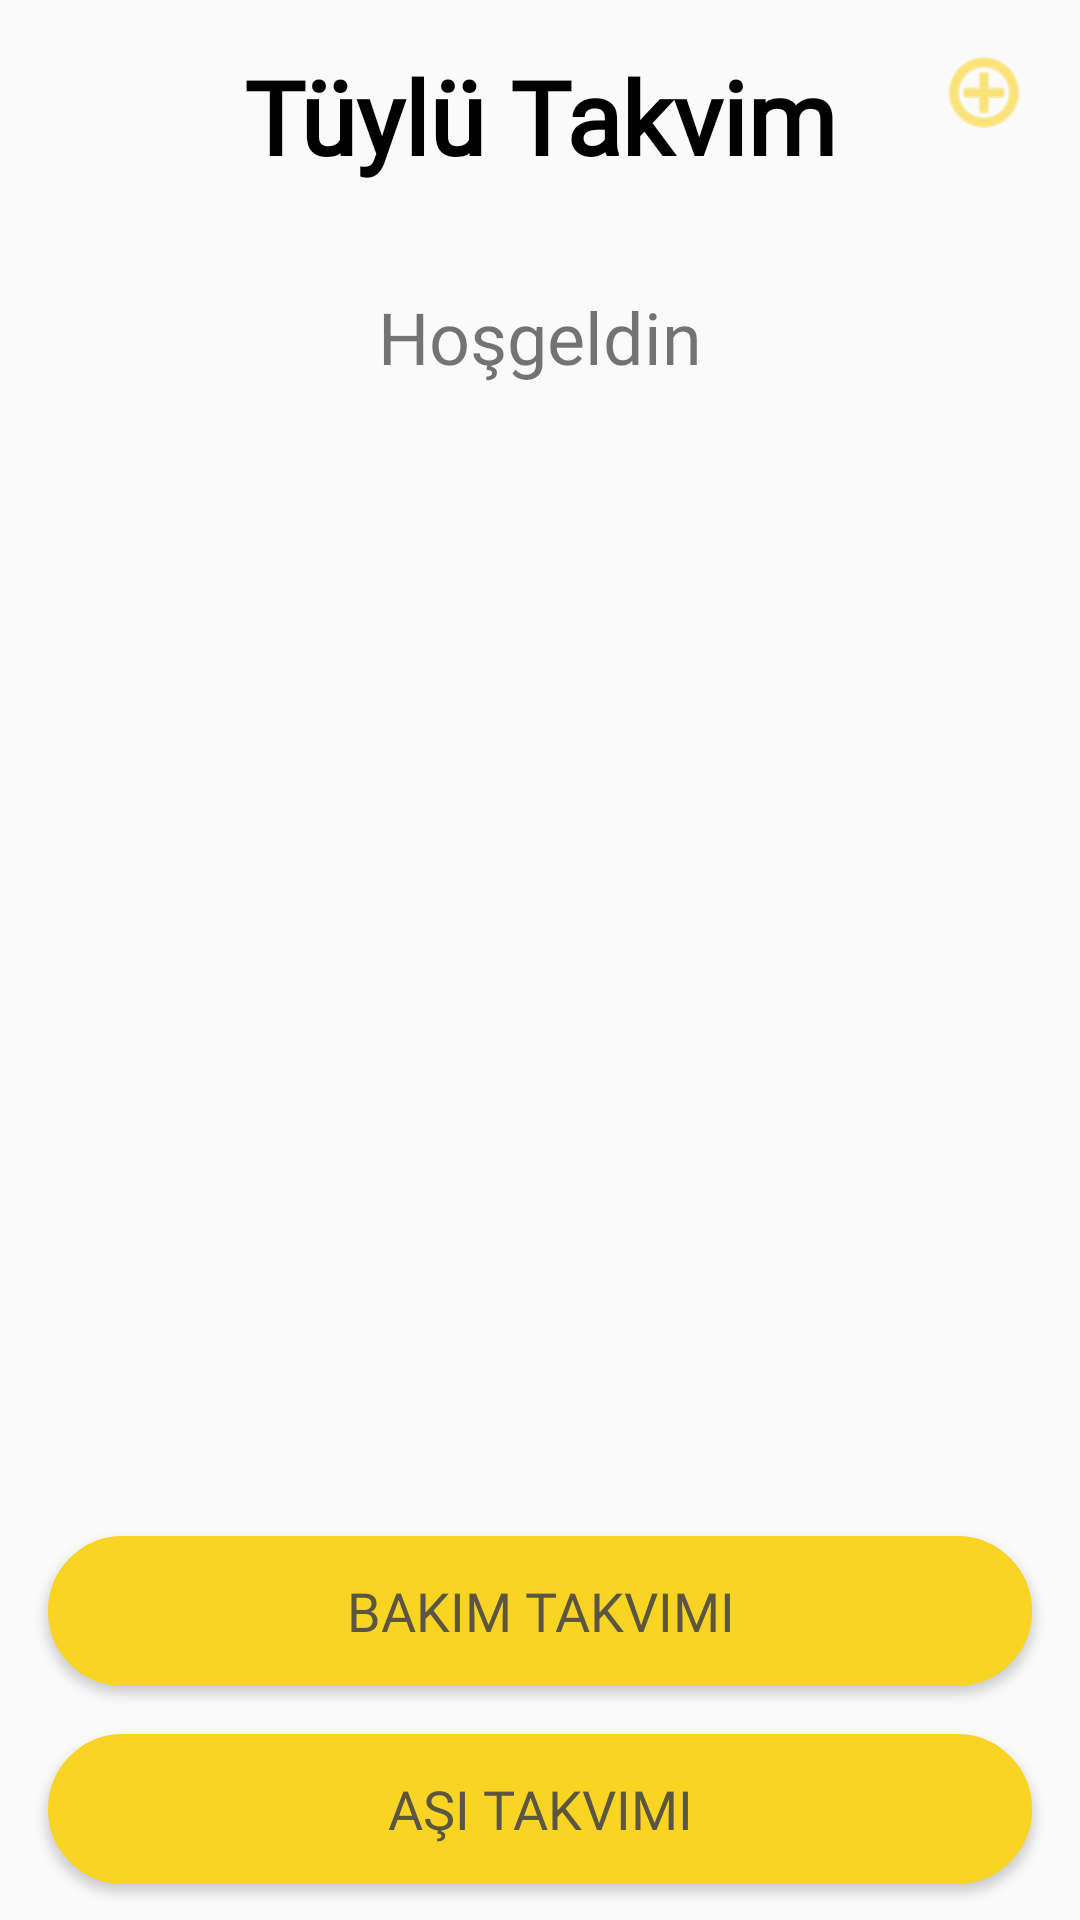

Icons on this 1080×1920 Android screen, each with the point to tap as point (x, y):
add: point (984, 92)
